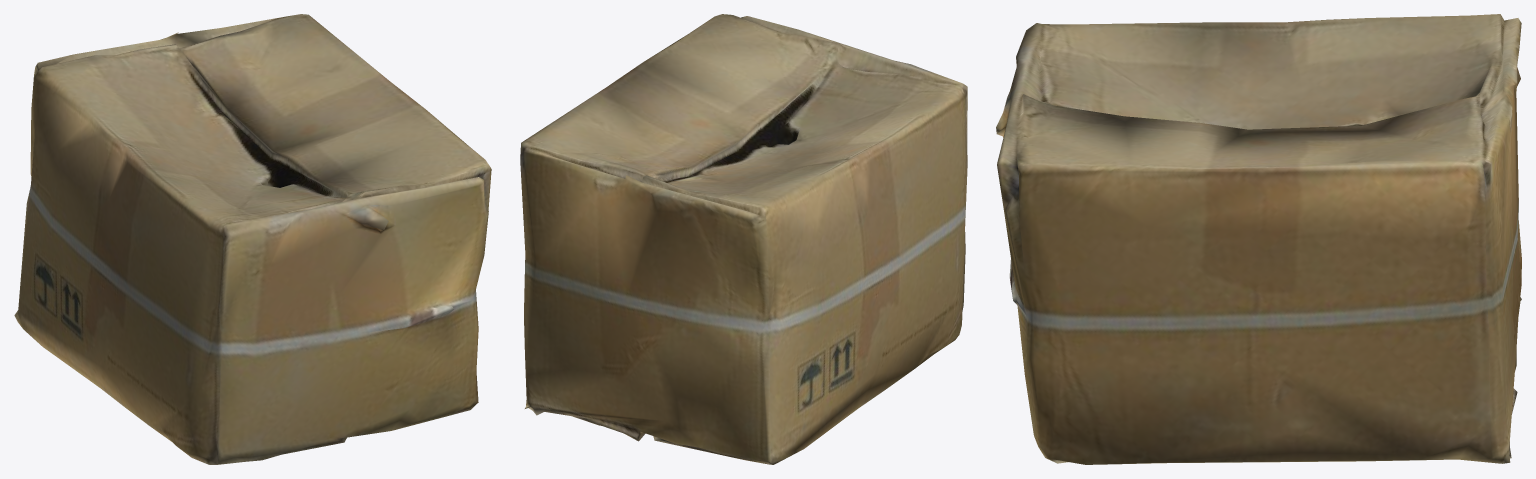
Rendered from cardboard_box.glb.
The picture shows the model from 3 angles, left to right: view 1: azimuth 30°, elevation 25°; view 2: azimuth 150°, elevation 25°; view 3: azimuth 270°, elevation 25°; orthographic projection. The views are drawn at different scales.
Parts seen in each view (by area): view 1: cardboard_box_01; view 2: cardboard_box_01; view 3: cardboard_box_01.
Part boxes in pixels (x1,y1,x2,y2): cardboard_box_01: [14, 14, 491, 464]; cardboard_box_01: [520, 14, 967, 464]; cardboard_box_01: [996, 14, 1521, 464].
Bounding box in the file's own units: 0.3848 × 0.3407 × 0.5159.
1 material, 1 textured.
